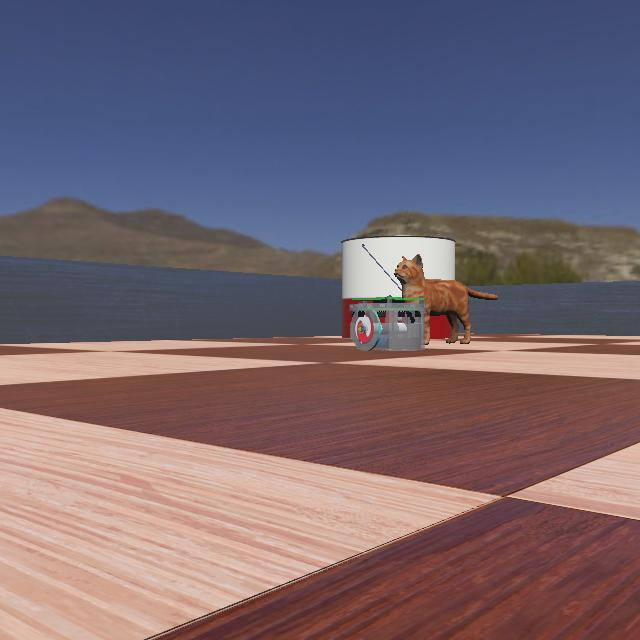cat: (384, 251, 520, 345)
